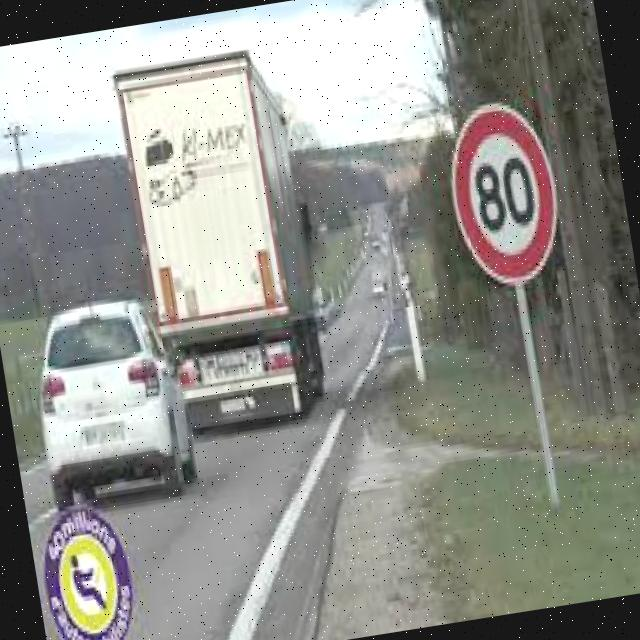Ograniczenie predkosci do 80: (442, 104, 568, 300)
